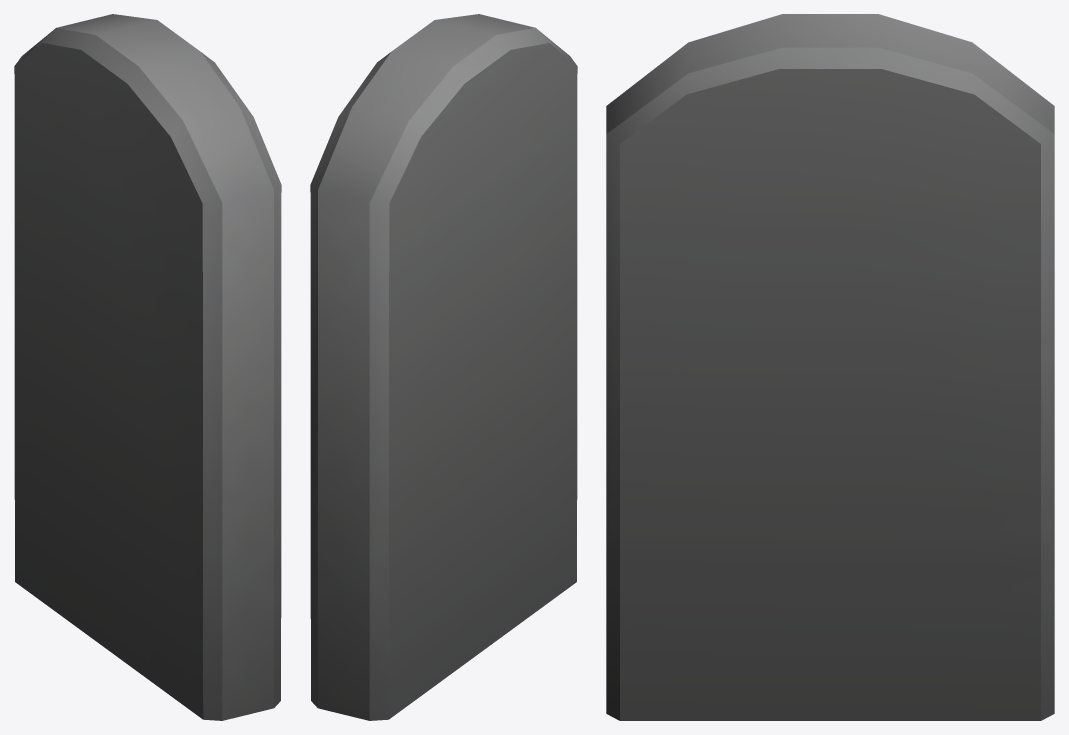
File: Tombstone_4.obj
3 renders of one model, left to right at view 1: azimuth 30°, elevation 25°; view 2: azimuth 150°, elevation 25°; view 3: azimuth 270°, elevation 25°, orthographic. The views are drawn at different scales.
Visible parts, largest first — view 1: Tombstone_4; view 2: Tombstone_4; view 3: Tombstone_4.
Part boxes in pixels (x1,y1,x2,y2): Tombstone_4: (14, 14, 281, 720); Tombstone_4: (310, 14, 577, 720); Tombstone_4: (606, 14, 1054, 720).
Size of the model in its own units: 0.1528 by 0.9987 by 0.6064.
